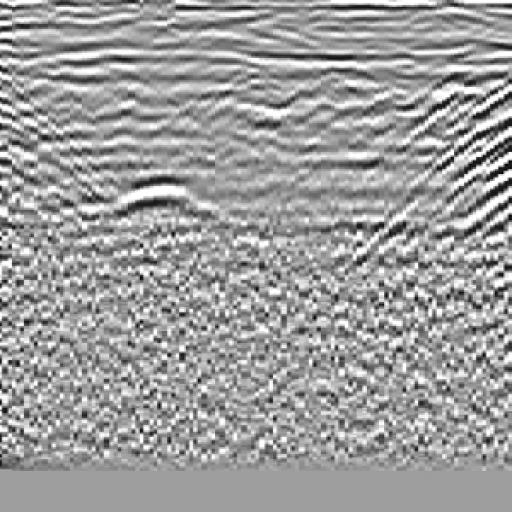metalic: (79, 158, 240, 255)
nonmetalic: (383, 52, 512, 286)
